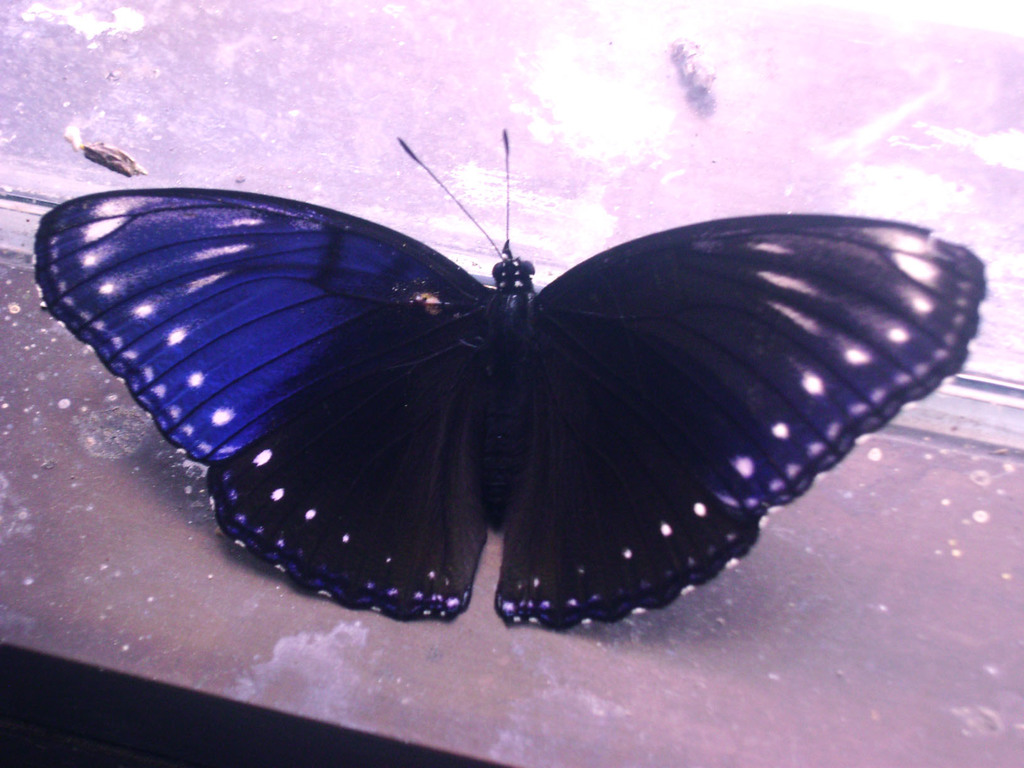Butterfly: (29, 125, 1002, 663)
